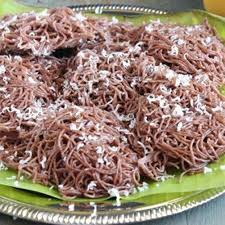idyappa: (2, 10, 225, 186)
